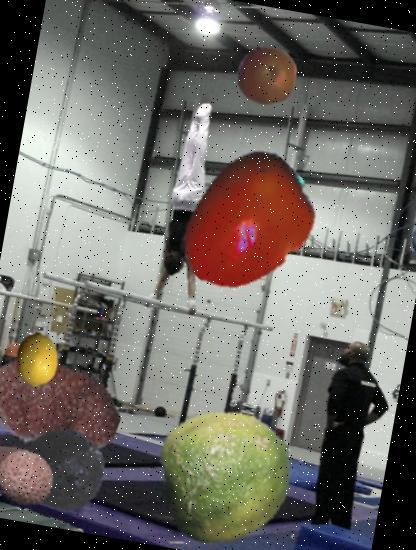Avocado: (10, 414, 115, 520)
Kaki: (162, 140, 329, 307)
Lemon: (4, 327, 69, 392)
Limes: (145, 395, 305, 550)
Lychee: (0, 443, 61, 513)
Strawberry: (0, 327, 131, 490)
Tangelo: (230, 39, 302, 111)
